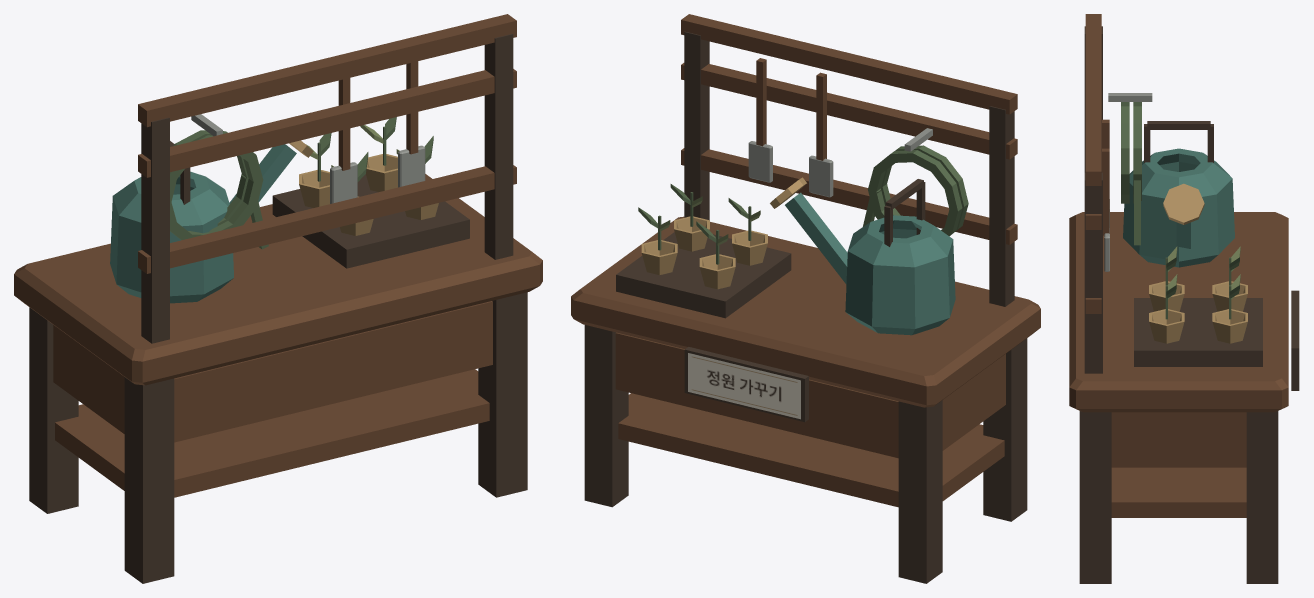
The model's file is F05_Garden_Care_Station.fbx.
The picture shows the model from 3 angles, left to right: view 1: azimuth 30°, elevation 25°; view 2: azimuth 150°, elevation 25°; view 3: azimuth 270°, elevation 25°; orthographic projection. The views are drawn at different scales.
Visible parts, largest first — view 1: Garden_Workbench, Tool_Rack, Seedling_Tray, Watering_Can, Hand_Tools, Hose_Hanger; view 2: Garden_Workbench, Tool_Rack, Watering_Can, Seedling_Tray, Front_Label, Hose_Hanger, Hand_Tools; view 3: Garden_Workbench, Watering_Can, Seedling_Tray, Tool_Rack, Hose_Hanger, Hand_Tools, Front_Label.
Part boxes in pixels (x1,y1,x2,y2): Garden_Workbench: [14, 174, 542, 583]; Tool_Rack: [138, 14, 516, 343]; Seedling_Tray: [272, 117, 469, 268]; Watering_Can: [110, 140, 313, 303]; Hand_Tools: [330, 61, 425, 203]; Hose_Hanger: [170, 114, 268, 249]; Garden_Workbench: [571, 216, 1040, 583]; Tool_Rack: [681, 14, 1017, 306]; Watering_Can: [770, 177, 955, 335]; Seedling_Tray: [616, 184, 791, 318]; Front_Label: [684, 347, 808, 422]; Hose_Hanger: [863, 128, 968, 236]; Hand_Tools: [748, 58, 833, 197]; Garden_Workbench: [1069, 212, 1288, 583]; Watering_Can: [1123, 121, 1234, 267]; Seedling_Tray: [1134, 246, 1262, 366]; Tool_Rack: [1084, 14, 1102, 373]; Hose_Hanger: [1108, 93, 1152, 245]; Hand_Tools: [1102, 119, 1109, 271]; Front_Label: [1291, 290, 1299, 390].
Size of the model in its own units: 1.7 by 1.85 by 0.945.
Materials: 8 (1 with a texture image).
